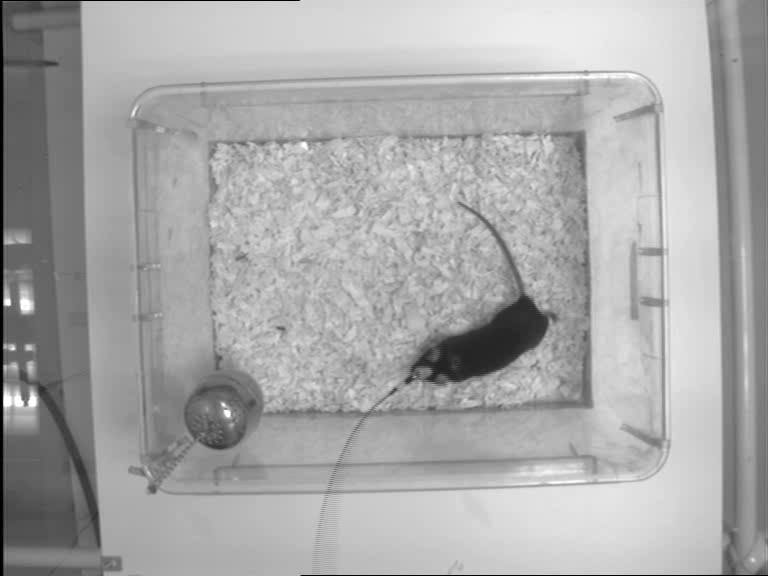mice: (410, 197, 560, 388)
